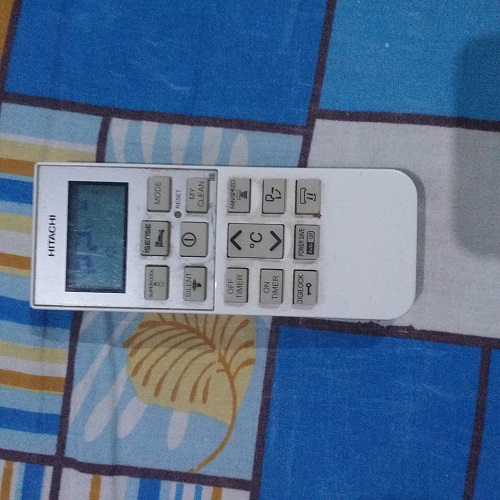remote: (8, 152, 463, 332)
